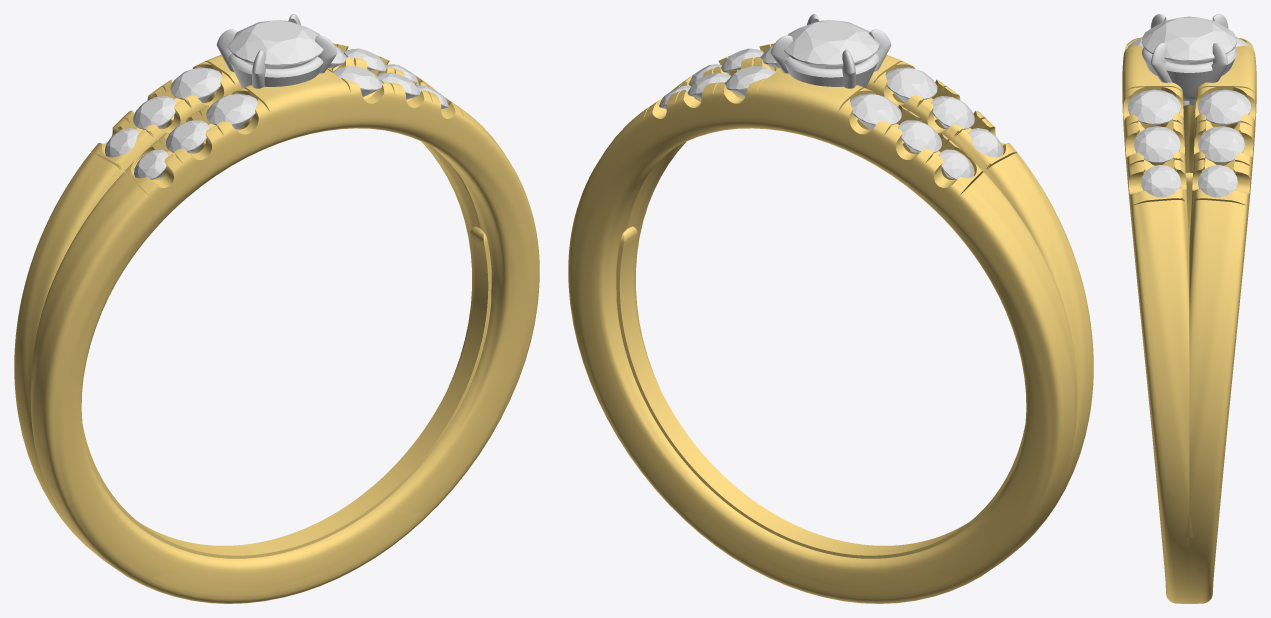
Rendered from StephanieV2_blender.glb.
3 views of the same model, side by side, from view 1: azimuth 30°, elevation 25°; view 2: azimuth 150°, elevation 25°; view 3: azimuth 270°, elevation 25° (orthographic).
Visible parts, largest first — view 1: V2 Stephanie YG for 3d model, V2 Stephanie dia for 3d model, V2 Stephanie PT for 3d model, V2 Stephanie dia for 3d model.003, V2 Stephanie dia for 3d model.012, V2 Stephanie dia for 3d model.002, V2 Stephanie dia for 3d model.011, V2 Stephanie dia for 3d model.009, V2 Stephanie dia for 3d model.010, V2 Stephanie dia for 3d model.001; view 2: V2 Stephanie YG for 3d model, V2 Stephanie dia for 3d model, V2 Stephanie PT for 3d model, V2 Stephanie dia for 3d model.012, V2 Stephanie dia for 3d model.003, V2 Stephanie dia for 3d model.011, V2 Stephanie dia for 3d model.002, V2 Stephanie dia for 3d model.006, V2 Stephanie dia for 3d model.001, V2 Stephanie dia for 3d model.010; view 3: V2 Stephanie YG for 3d model, V2 Stephanie dia for 3d model, V2 Stephanie PT for 3d model, V2 Stephanie dia for 3d model.006, V2 Stephanie dia for 3d model.009, V2 Stephanie dia for 3d model.005, V2 Stephanie dia for 3d model.008, V2 Stephanie dia for 3d model.004, V2 Stephanie dia for 3d model.007.
Part boxes in pixels (x1,y1,x2,y2): V2 Stephanie YG for 3d model: (14,43,539,603); V2 Stephanie dia for 3d model: (228,20,323,68); V2 Stephanie PT for 3d model: (216,14,337,88); V2 Stephanie dia for 3d model.003: (170,67,222,102); V2 Stephanie dia for 3d model.012: (206,93,257,129); V2 Stephanie dia for 3d model.002: (133,96,176,129); V2 Stephanie dia for 3d model.011: (166,120,209,152); V2 Stephanie dia for 3d model.009: (332,66,382,96); V2 Stephanie dia for 3d model.010: (134,149,168,179); V2 Stephanie dia for 3d model.001: (105,128,139,157); V2 Stephanie YG for 3d model: (568,43,1093,603); V2 Stephanie dia for 3d model: (784,20,879,68); V2 Stephanie PT for 3d model: (770,14,891,88); V2 Stephanie dia for 3d model.012: (885,67,937,102); V2 Stephanie dia for 3d model.003: (850,93,901,129); V2 Stephanie dia for 3d model.011: (931,96,974,129); V2 Stephanie dia for 3d model.002: (898,120,941,152); V2 Stephanie dia for 3d model.006: (725,66,775,96); V2 Stephanie dia for 3d model.001: (939,149,973,179); V2 Stephanie dia for 3d model.010: (968,128,1002,157); V2 Stephanie YG for 3d model: (1122,38,1256,603); V2 Stephanie dia for 3d model: (1142,16,1236,64); V2 Stephanie PT for 3d model: (1142,14,1236,105); V2 Stephanie dia for 3d model.006: (1198,89,1250,125); V2 Stephanie dia for 3d model.009: (1128,89,1180,125); V2 Stephanie dia for 3d model.005: (1198,126,1244,162); V2 Stephanie dia for 3d model.008: (1134,126,1180,162); V2 Stephanie dia for 3d model.004: (1198,165,1237,197); V2 Stephanie dia for 3d model.007: (1141,165,1180,197).
Bounding box in the file's own units: 21.25 × 22.94 × 5.08.
